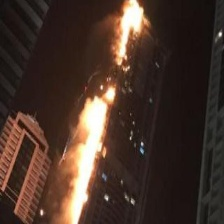fire: (48, 1, 146, 223)
